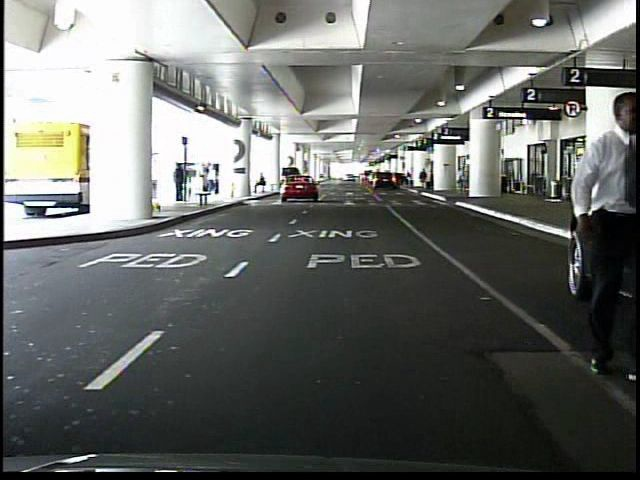person: (568, 91, 637, 375), (172, 161, 187, 204), (455, 166, 468, 195), (254, 172, 269, 195), (418, 167, 427, 191)
